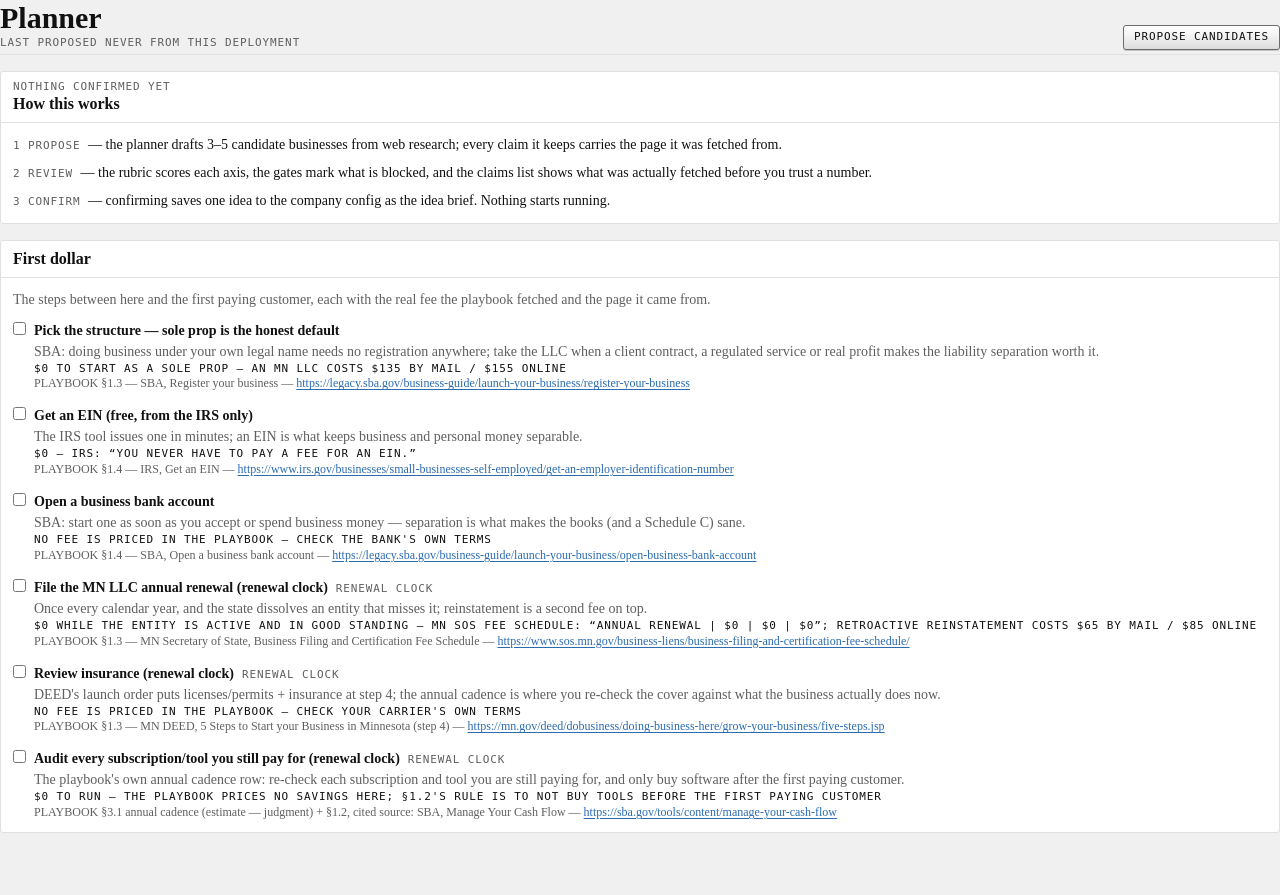
PlannerPage — confirm › never claims a save that failed — the refusal is named
The width and height of the screenshot is (1280, 895).
Click the button with test id "planner-propose" at (1202, 37), box [1123,25,1279,50]
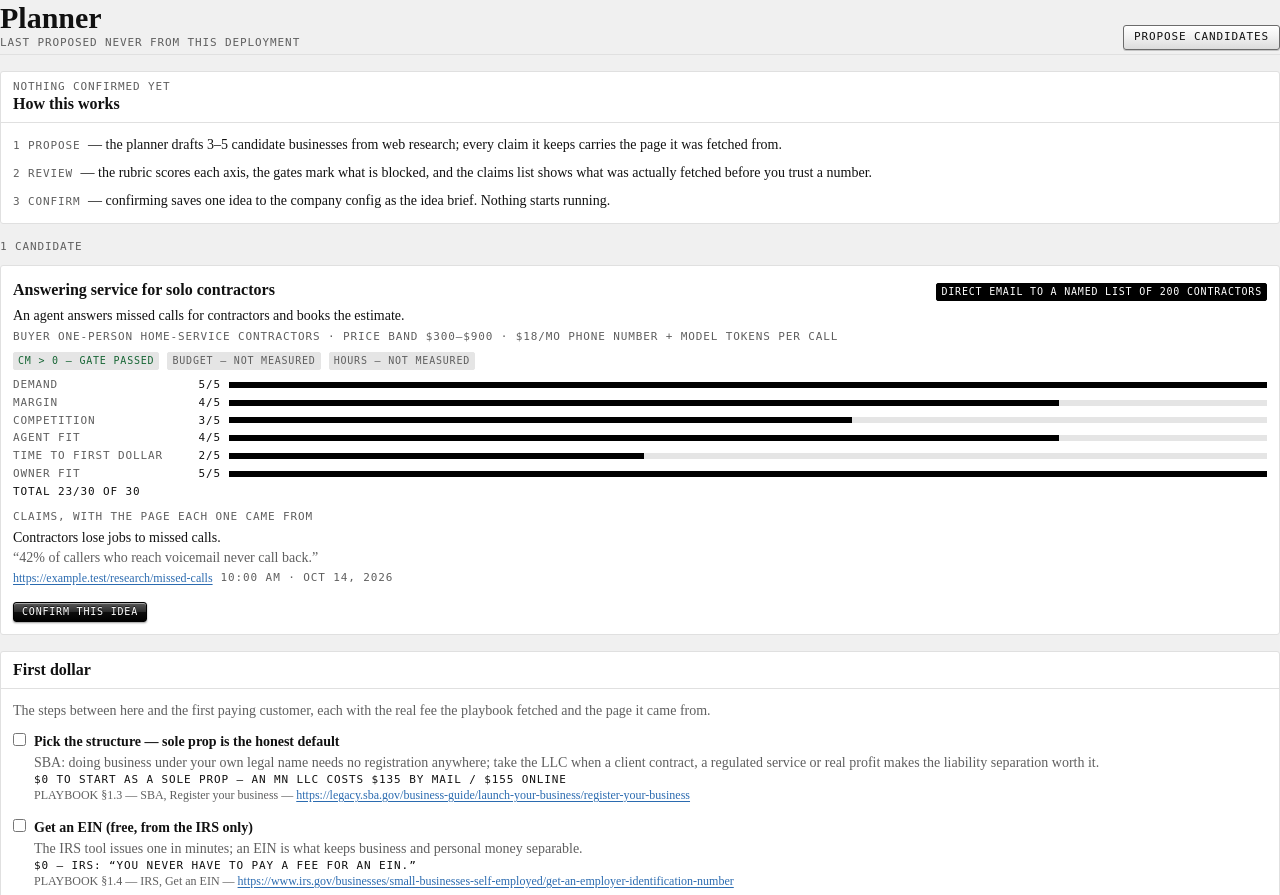
Click the button "Confirm this idea" at (80, 612), box [13,602,147,622]
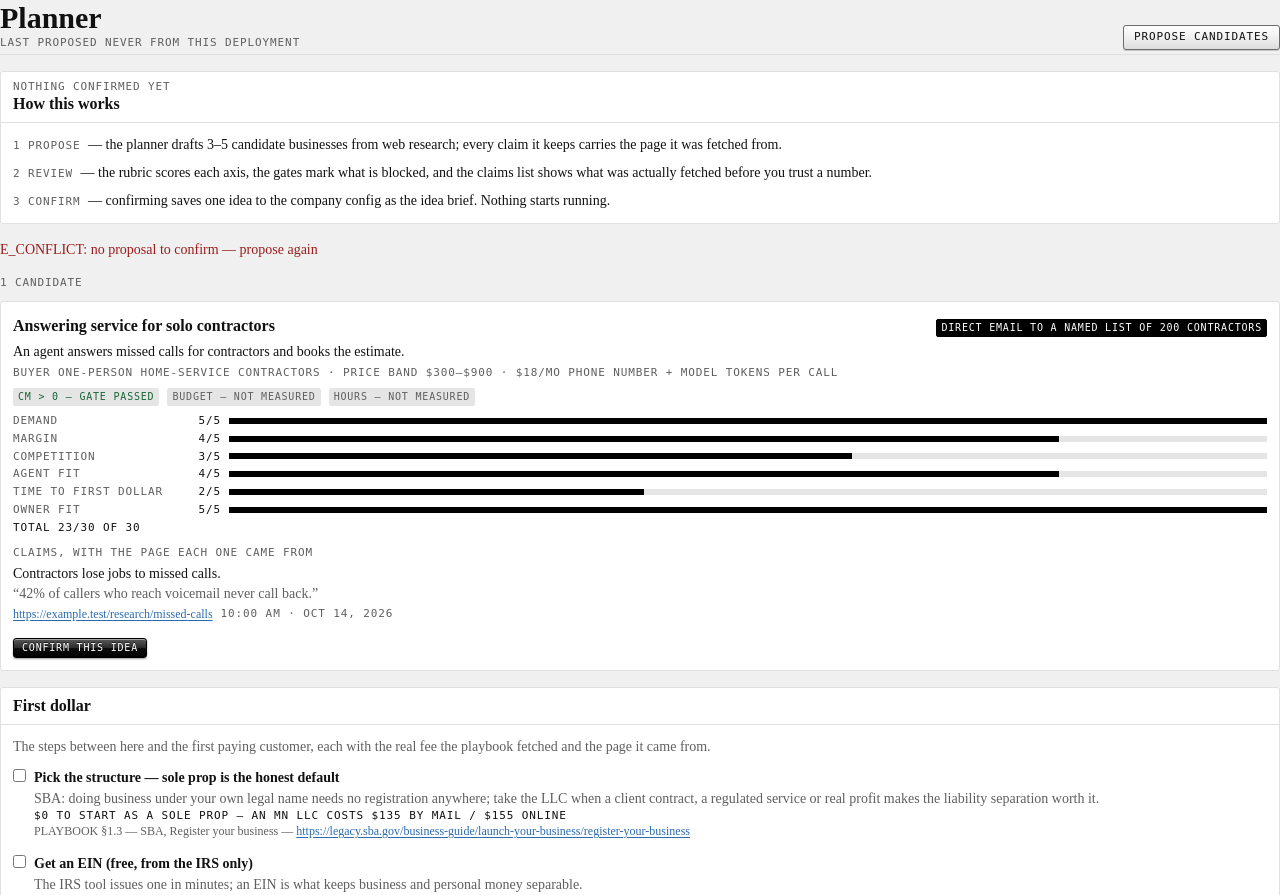
Expected: the message with test id "planner-confirm-error" reads "E_CONFLICT: no proposal to confirm — propose again", [0,242,318,256]
